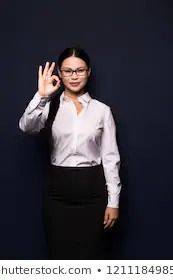S_blouse: (14, 87, 133, 210)
